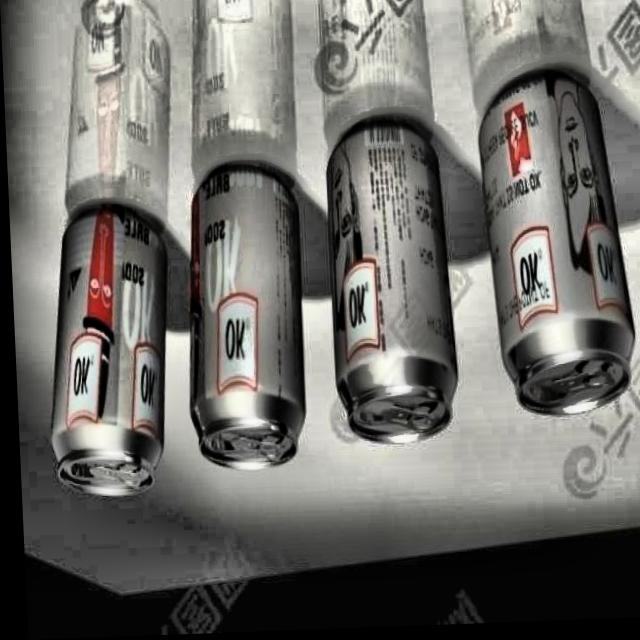can: (473, 72, 640, 427), (318, 115, 459, 453), (172, 151, 313, 486), (34, 208, 177, 497)
